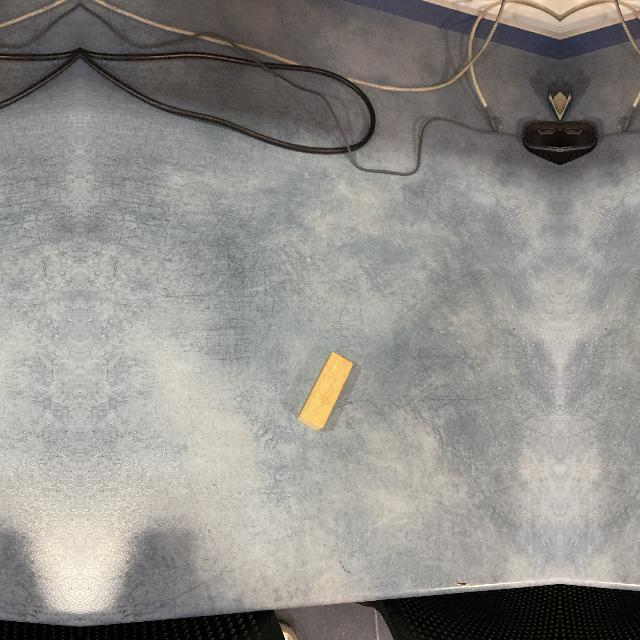jenga: (297, 352, 355, 432)
